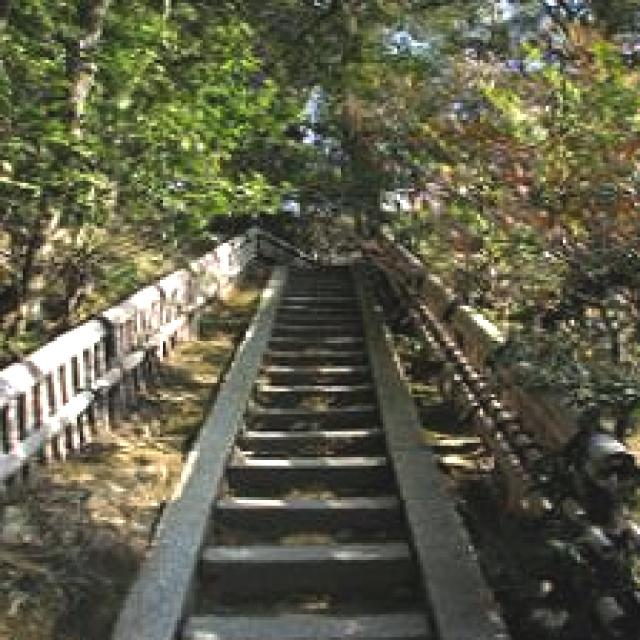upstair: (192, 401, 481, 638)
